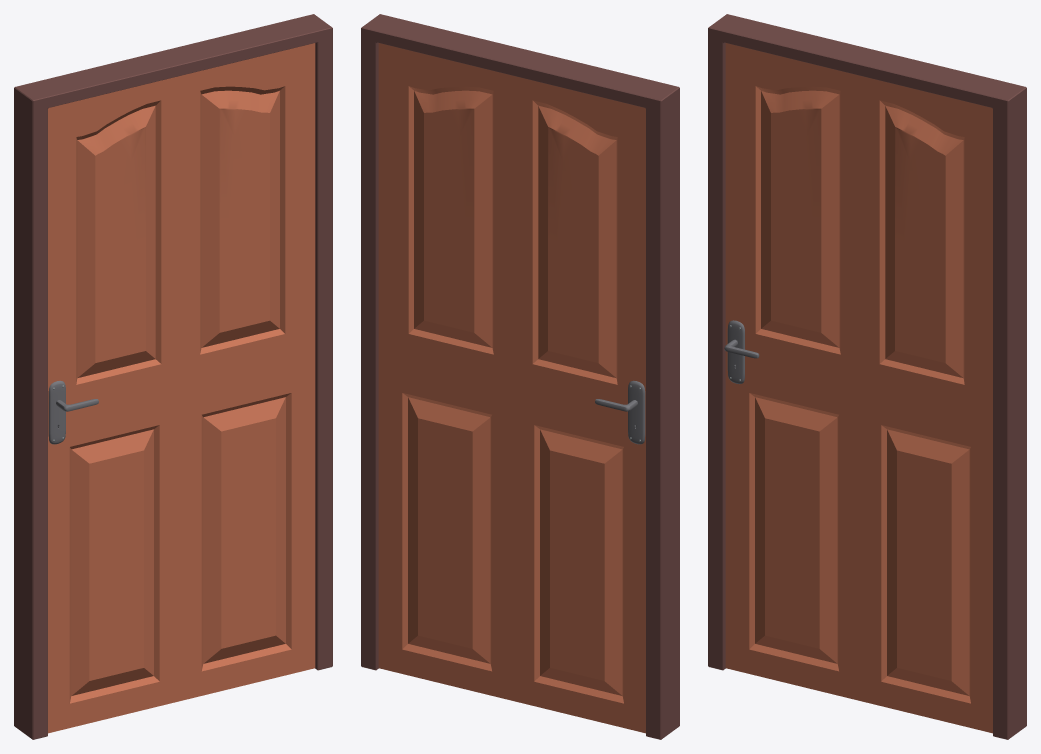
File: PortaDeMadeira.fbx
The picture shows the model from 3 angles, left to right: view 1: azimuth 30°, elevation 25°; view 2: azimuth 150°, elevation 25°; view 3: azimuth 330°, elevation 25°; orthographic projection.
Visible parts, largest first — view 1: PortaMadeira, PortaMadeira.Barente, PortaMadeira.Tranca; view 2: PortaMadeira, PortaMadeira.Barente, PortaMadeira.Tranca; view 3: PortaMadeira, PortaMadeira.Barente, PortaMadeira.Tranca.
Boxes of the visible parts, <box> form: PortaMadeira: <box>48,43,315,733</box>; PortaMadeira.Barente: <box>14,14,332,739</box>; PortaMadeira.Tranca: <box>48,380,65,444</box>; PortaMadeira: <box>378,43,645,733</box>; PortaMadeira.Barente: <box>361,14,679,739</box>; PortaMadeira.Tranca: <box>628,380,645,444</box>; PortaMadeira: <box>725,43,992,733</box>; PortaMadeira.Barente: <box>708,14,1026,739</box>; PortaMadeira.Tranca: <box>727,320,744,384</box>.
Size of the model in its own units: 109 by 221 by 22.93.
